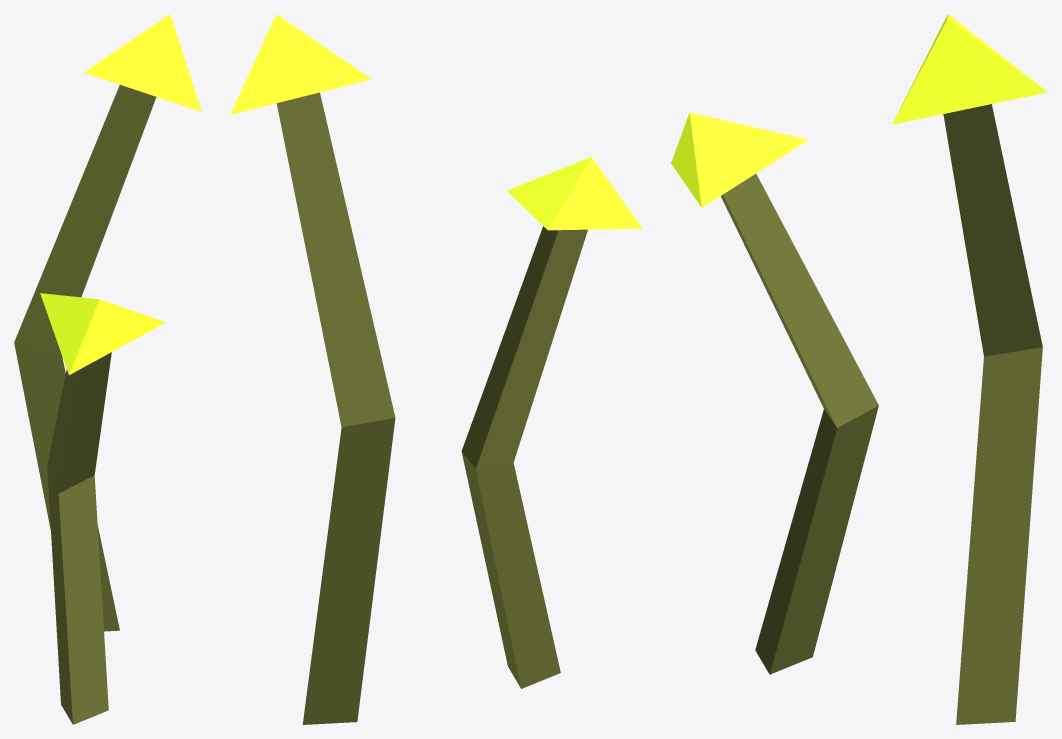
Rendered from Pests-Weed2.fbx.
The picture shows the model from 3 angles, left to right: view 1: azimuth 30°, elevation 25°; view 2: azimuth 150°, elevation 25°; view 3: azimuth 270°, elevation 25°; orthographic projection. The views are drawn at different scales.
Parts seen in each view (by area): view 1: weed2; view 2: weed2; view 3: weed2.
Boxes of the visible parts, x1=… form: weed2: x1=14, y1=14, x2=201, y2=724; weed2: x1=230, y1=14, x2=642, y2=724; weed2: x1=671, y1=14, x2=1047, y2=724.
Bounding box in the file's own units: 0.1185 × 0.1429 × 0.3075.
